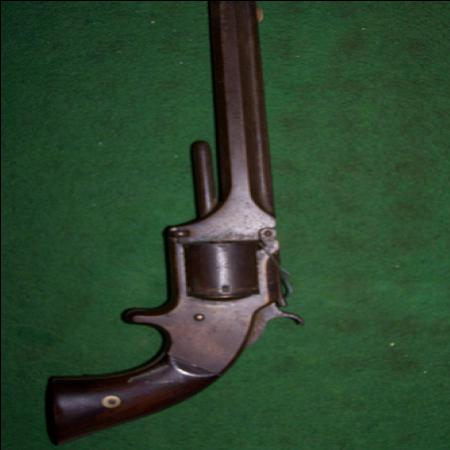Pistol: (43, 1, 303, 445)
